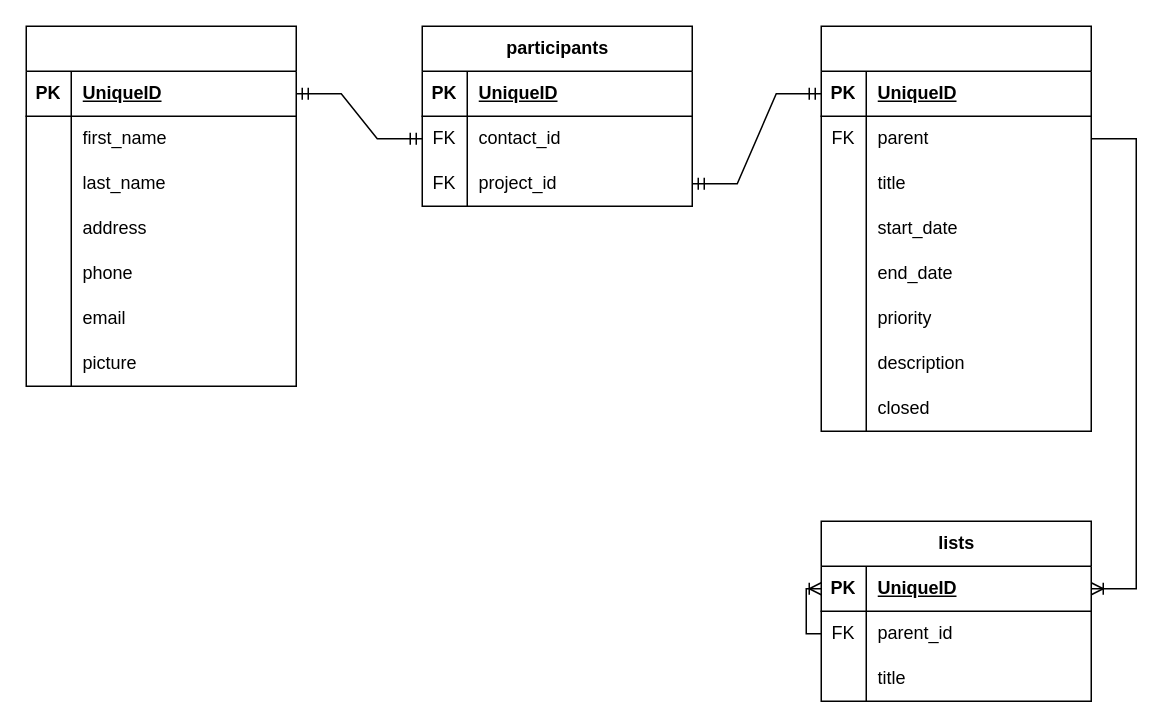
The diagram is 1175 pixels wide and 728 high, and some of its shapes have lost their labels. The box of each missing label's shape, as (x1, y1, x2, y2) in pixels:
contacts: (25, 25, 296, 386)
projects: (820, 25, 1091, 431)
